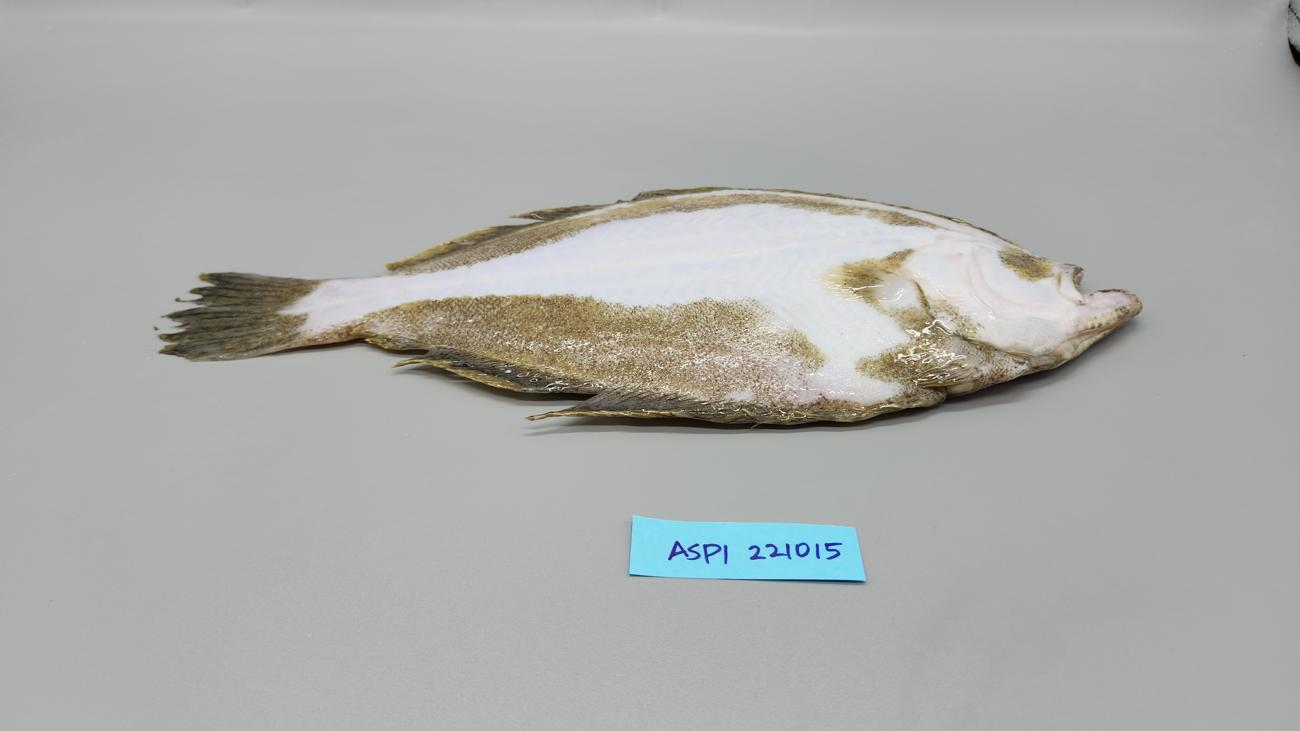SPDYH: (302, 305, 397, 344)
SPOUY: (144, 180, 1151, 440)
